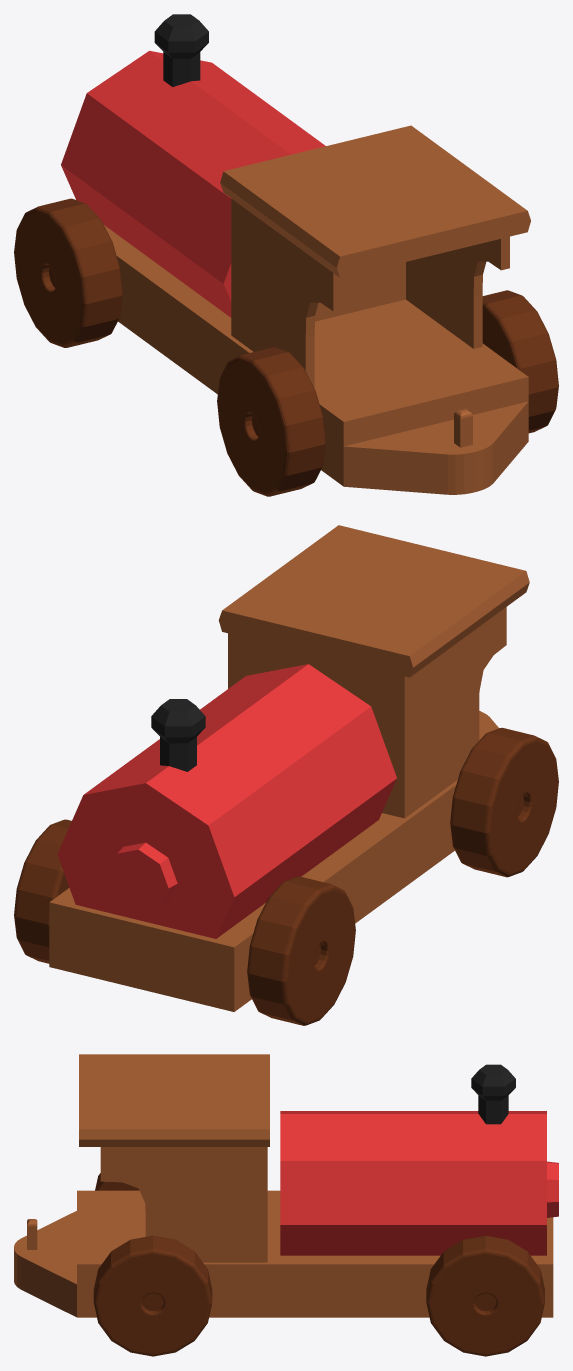
Rendered from Train.fbx.
3 renders of one model, top to bottom at view 1: azimuth 30°, elevation 25°; view 2: azimuth 150°, elevation 25°; view 3: azimuth 270°, elevation 25°, orthographic. The views are drawn at different scales.
Parts seen in each view (by area): view 1: Train; view 2: Train; view 3: Train.
Part boxes in pixels (<box>): Train: <box>14,14,558,496</box>; Train: <box>14,525,558,1025</box>; Train: <box>14,1054,558,1356</box>.
Size of the model in its own units: 39.97 by 40.04 by 84.41.
